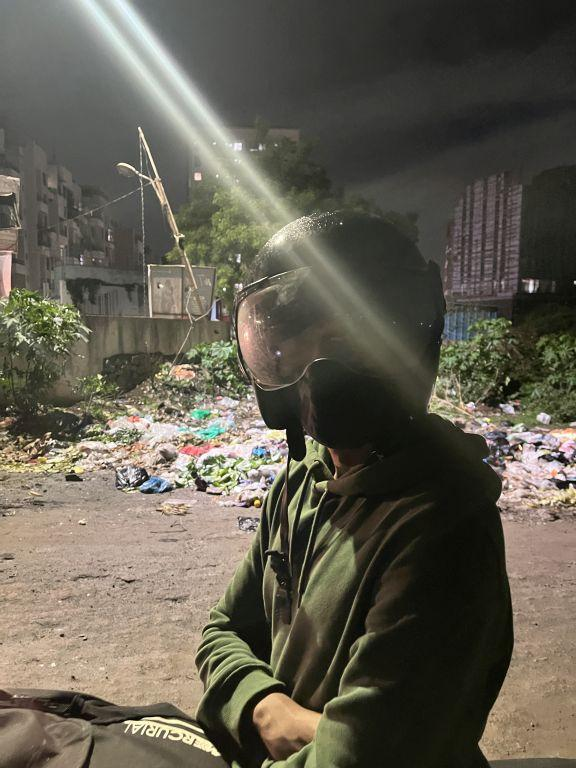helmet: (225, 199, 453, 459)
